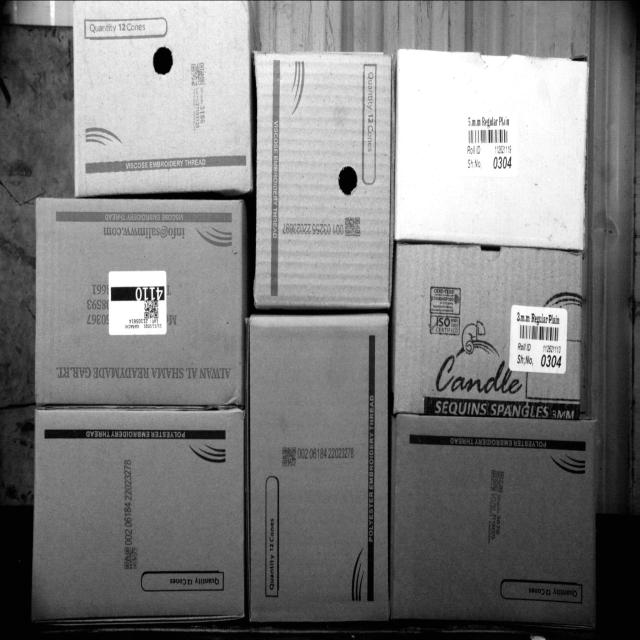cardboxes: (31, 410, 245, 619), (36, 194, 240, 409), (252, 317, 388, 617), (394, 414, 594, 617), (398, 48, 584, 250), (75, 0, 251, 195), (256, 56, 388, 306), (394, 245, 586, 415)
